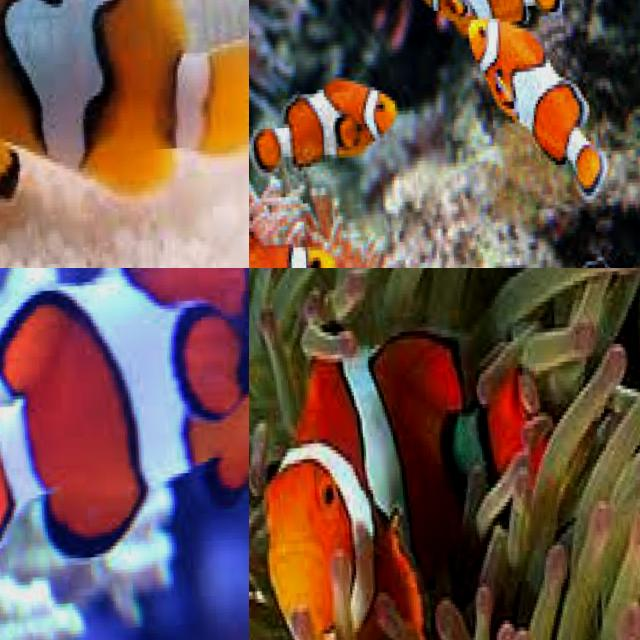Amphiprion-percula: (249, 279, 589, 640), (0, 268, 249, 591), (0, 0, 249, 268), (434, 0, 630, 223), (249, 51, 444, 214), (381, 0, 572, 72)
